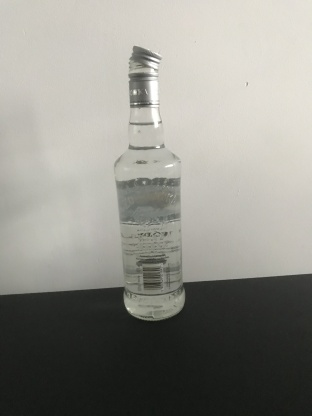nakretka: (126, 43, 163, 108)
